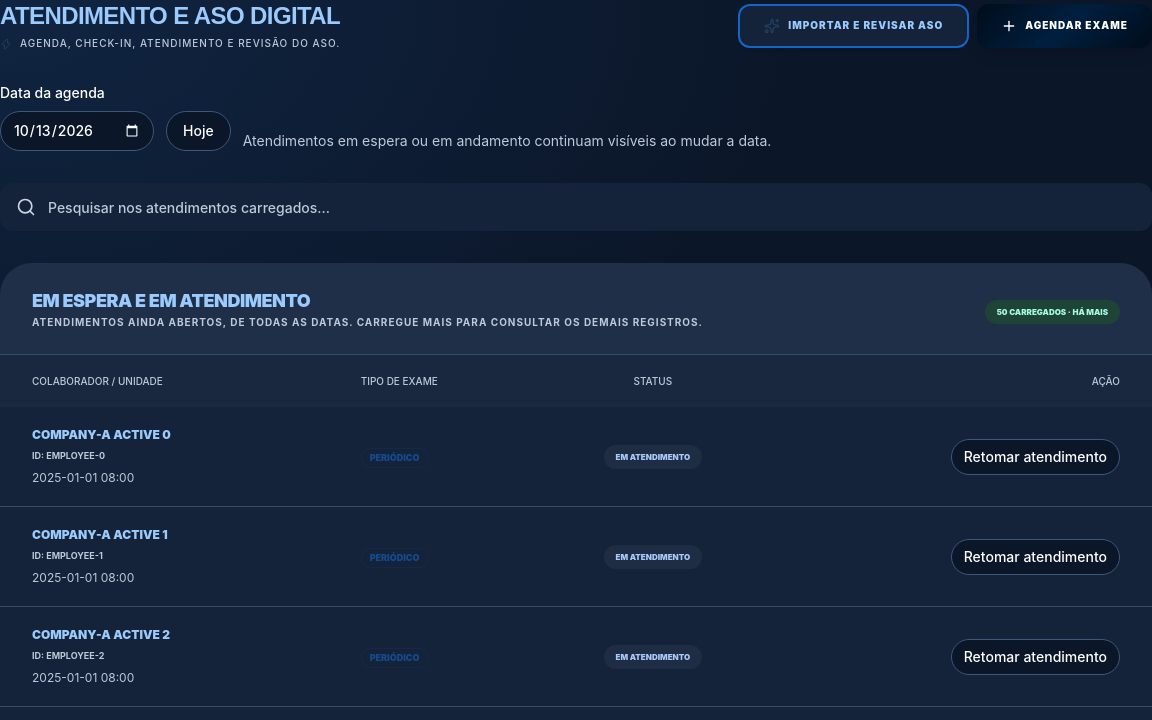
Test: fila clínica: data e expansão disponíveis na interface › preserva a retomada e não oferece conclusão clínica a perfil sem autorização
Click the button "Retomar atendimento" in the row of "company-a active 0" at [1035, 456], box [951, 438, 1120, 474]
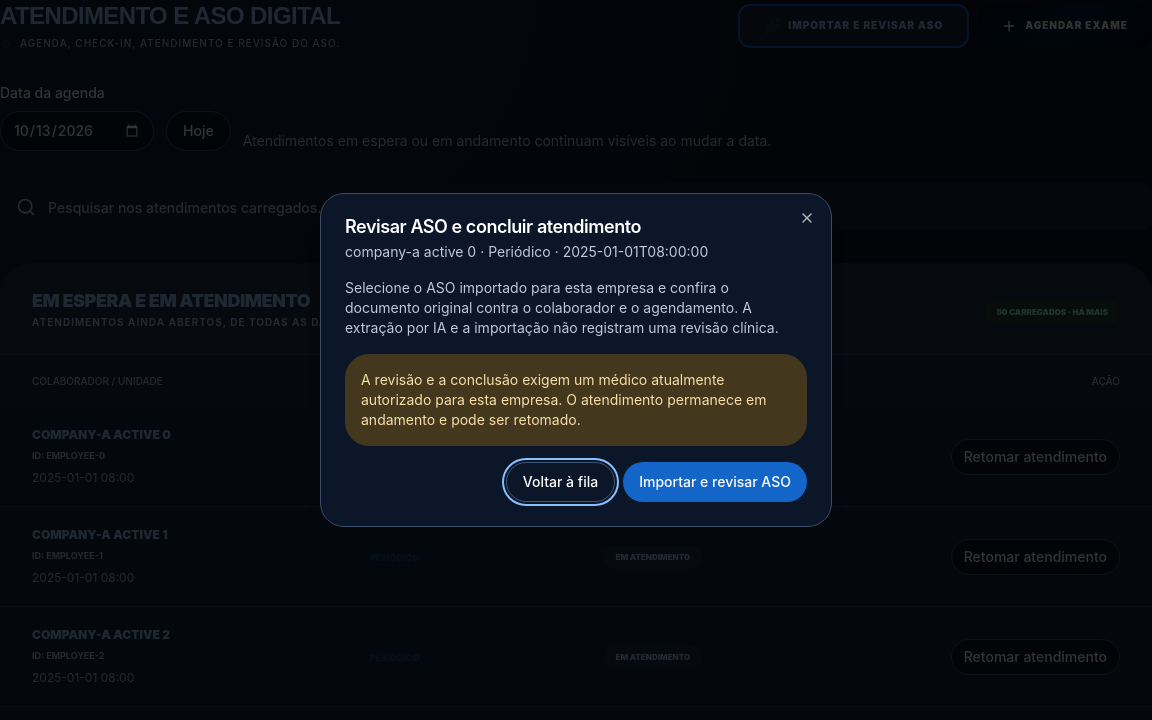
Now the text "A revisão e a conclusão exigem um médico atualmente autorizado" is shown, box [361, 371, 766, 428]
